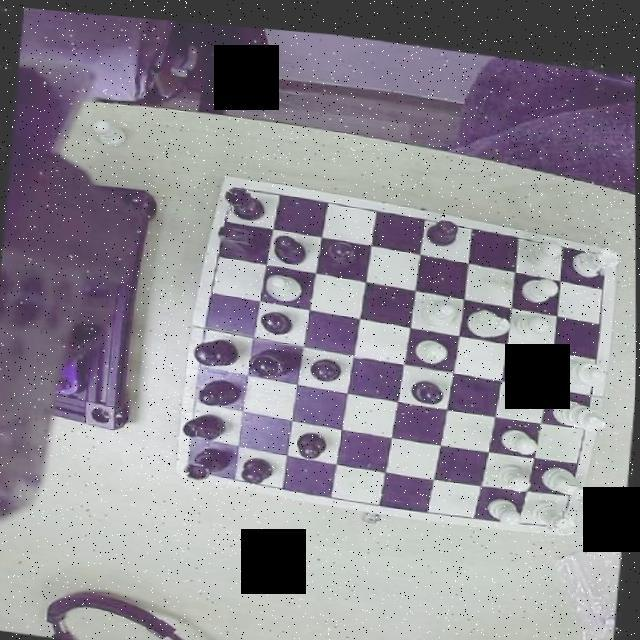chess-table-corners: (220, 172, 254, 209), (582, 230, 614, 264), (180, 441, 210, 476), (544, 494, 575, 524)
